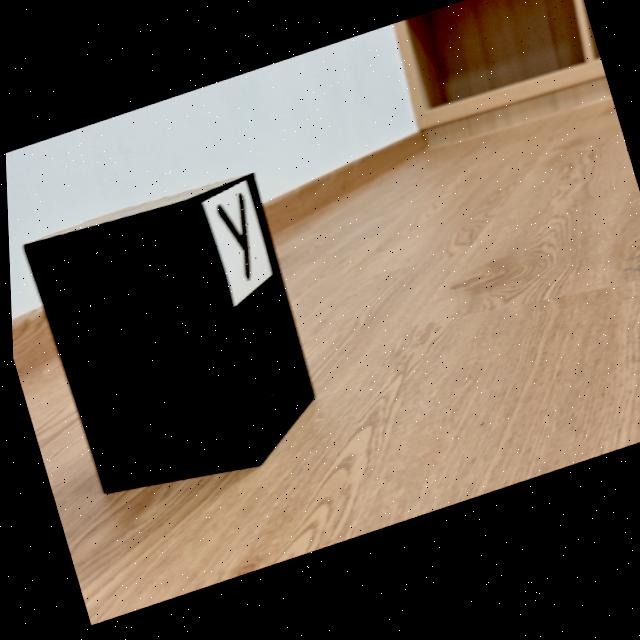Y: (215, 197, 249, 283)
